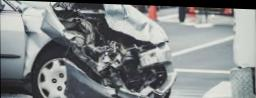Bonnet: (40, 2, 169, 48)
Bumper: (63, 47, 178, 98)
Light: (91, 42, 131, 62)
